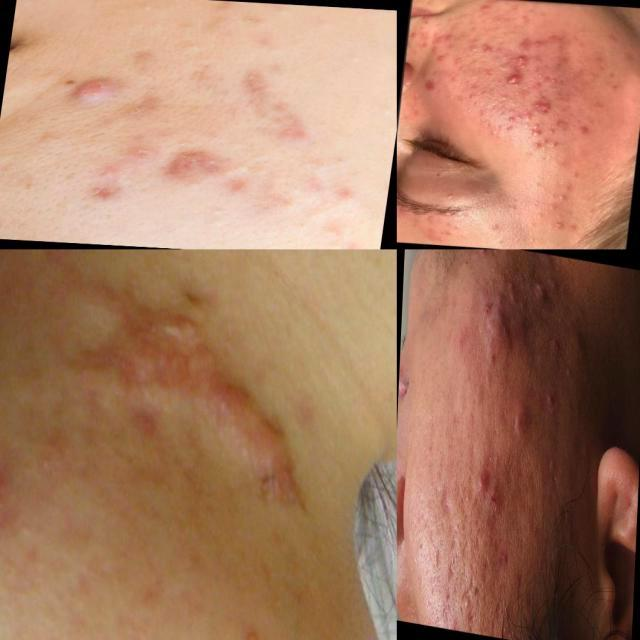Pimples: (84, 262, 326, 532), (231, 51, 294, 114), (478, 280, 522, 363), (52, 64, 126, 101), (478, 472, 516, 544), (0, 443, 31, 528), (167, 139, 217, 183), (512, 398, 531, 445), (446, 532, 462, 584), (439, 476, 455, 520), (477, 552, 495, 589), (530, 274, 552, 304), (474, 456, 488, 499), (532, 98, 562, 115), (432, 538, 446, 574), (513, 38, 539, 56), (500, 72, 528, 88), (548, 218, 571, 234), (525, 120, 544, 138), (474, 249, 494, 264), (421, 78, 441, 92), (476, 42, 496, 56), (510, 51, 529, 65), (577, 124, 595, 136), (548, 118, 566, 130), (433, 30, 448, 44), (444, 32, 459, 44), (546, 76, 562, 86), (434, 53, 449, 63), (516, 62, 532, 71), (407, 28, 420, 39), (478, 2, 492, 12), (504, 114, 518, 124), (531, 39, 545, 48), (532, 81, 544, 91), (503, 124, 517, 132), (530, 142, 544, 150), (539, 136, 550, 146), (547, 126, 558, 134), (549, 140, 559, 148)
